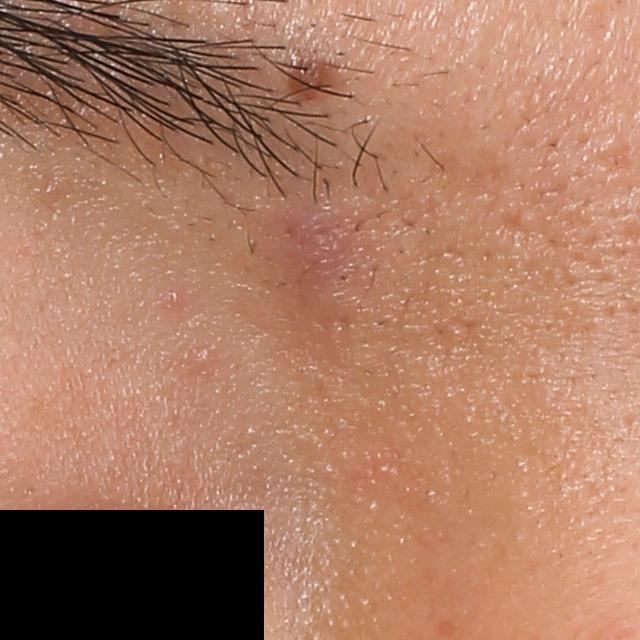comedo: (196, 347, 213, 367), (164, 286, 180, 307)
